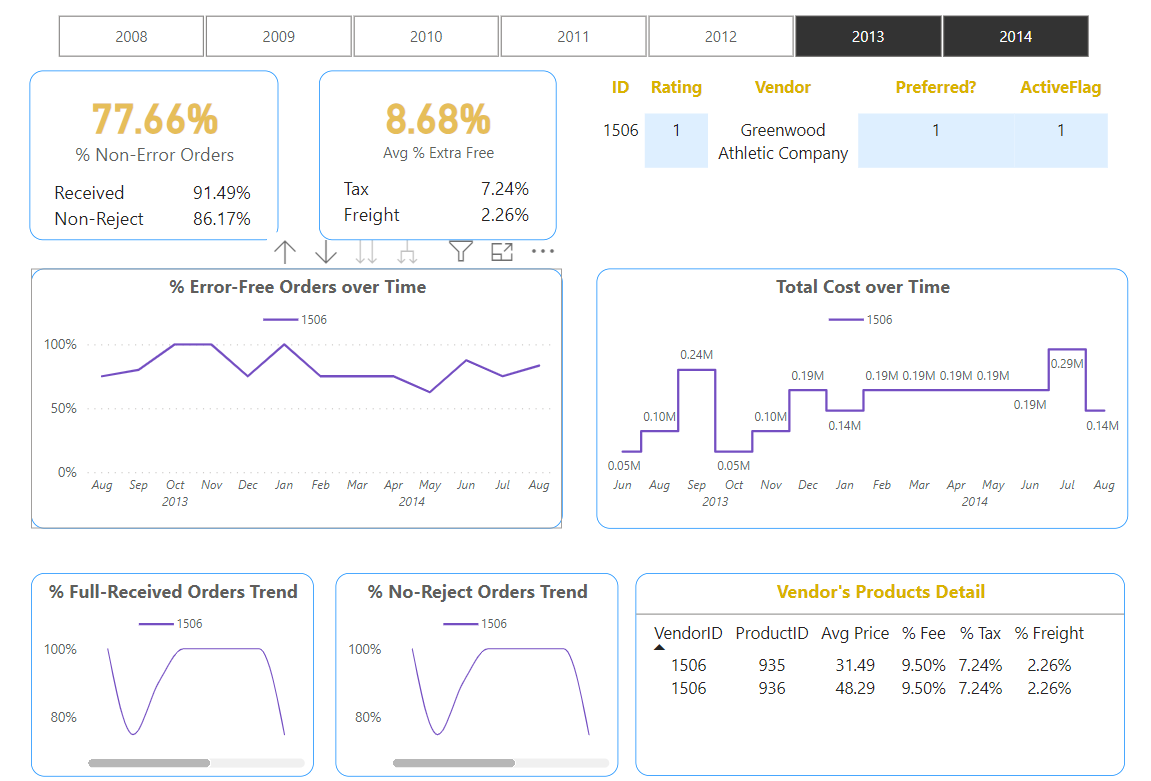

The page's visual inventory and layout, read from the dashboard file:
{"tool":"powerbi","page":{"name":"Vendor","canvas":[1280,720],"ordinal":1},"visuals":[{"type":"tableEx","title":"Vendor''s Products Detail","fields":{"Values":["Dimvendor.BusinessEntityID","PurchaseOrderDetail.ProductID","Avg(PurchaseOrderDetail.UnitPrice)","Avg(PurchaseOrderDetail.%_fee)","Avg(PurchaseOrderDetail.%_tax)","Avg(PurchaseOrderDetail.%_freight)"]},"box":[810,520,432.9,179],"z":0},{"type":"cardVisual","fields":{"Data":["Measure.%_perfectorder"]},"box":[275,75,220,150],"z":1000},{"type":"lineChart","title":"% Error-Free Orders over Time","fields":{"Category":["Dimdate.Year Hierarchy.Year","Dimdate.Year Hierarchy.Month"],"Y":["Measure.%_perfectorder"],"Series":["Dimvendor.BusinessEntityID"]},"box":[275.7,250,470,230],"z":2000},{"type":"cardVisual","fields":{"Data":["Measure.%_taxfreight"]},"box":[530,75,210,150],"z":3000},{"type":"actionButton","box":[35,450,145,30],"z":4000},{"type":"lineChart","title":"Total Cost over Time","fields":{"Y":["Sum(PurchaseOrderDetail.Grandtotal)"],"Series":["Dimvendor.BusinessEntityID"],"Category":["Dimdate.Year Hierarchy.Year","Dimdate.Year Hierarchy.Month"]},"box":[775.7,250,470,230],"z":5000},{"type":"slicer","fields":{"Values":["Dimvendor.BusinessEntityID"]},"box":[30,330,160,70],"z":6000},{"type":"lineChart","title":"% Full-Received Orders Trend","fields":{"Category":["Dimdate.Year Hierarchy.Year","Dimdate.Year Hierarchy.Month"],"Y":["Measure.%_perfectreceive"],"Series":["Dimvendor.BusinessEntityID"]},"box":[275.7,520,250,180],"z":7000},{"type":"lineChart","title":"% No-Reject Orders Trend","fields":{"Category":["Dimdate.Year Hierarchy.Year","Dimdate.Year Hierarchy.Month"],"Y":["Measure.%_perfectreceive"],"Series":["Dimvendor.BusinessEntityID"]},"box":[545,520,250,180],"z":8000},{"type":"slicer","fields":{"Values":["Dimdate.Year"]},"box":[275,20,960,50],"z":9000},{"type":"pageNavigator","box":[32.1,176.7,154.8,89.1],"z":10000},{"type":"tableEx","fields":{"Values":["Dimvendor.BusinessEntityID","Dimvendor.CreditRating","Dimvendor.Name","Dimvendor.PreferredVendorStatus","Dimvendor.ActiveFlag"]},"box":[775,75,460,150],"z":11000},{"type":"image","box":[24.8,0,168,172.3],"z":12000}]}

Visuals, with their boxes on the page's 1280x720 design canvas (x1, y1, x2, y2). These are canvas units, not pixel positions in the 1151x781 screenshot, which may show the page scaled, cropped or inside an application window:
"Vendor''s Products Detail" tableEx: crop(810, 520, 1243, 699)
cardVisual - Measure.%_perfectorder: crop(275, 75, 495, 225)
"% Error-Free Orders over Time" lineChart: crop(276, 250, 746, 480)
cardVisual - Measure.%_taxfreight: crop(530, 75, 740, 225)
actionButton: crop(35, 450, 180, 480)
"Total Cost over Time" lineChart: crop(776, 250, 1246, 480)
slicer - Dimvendor.BusinessEntityID: crop(30, 330, 190, 400)
"% Full-Received Orders Trend" lineChart: crop(276, 520, 526, 700)
"% No-Reject Orders Trend" lineChart: crop(545, 520, 795, 700)
slicer - Dimdate.Year: crop(275, 20, 1235, 70)
pageNavigator: crop(32, 177, 187, 266)
tableEx - Dimvendor.BusinessEntityID x Dimvendor.CreditRating: crop(775, 75, 1235, 225)
image: crop(25, 0, 193, 172)
